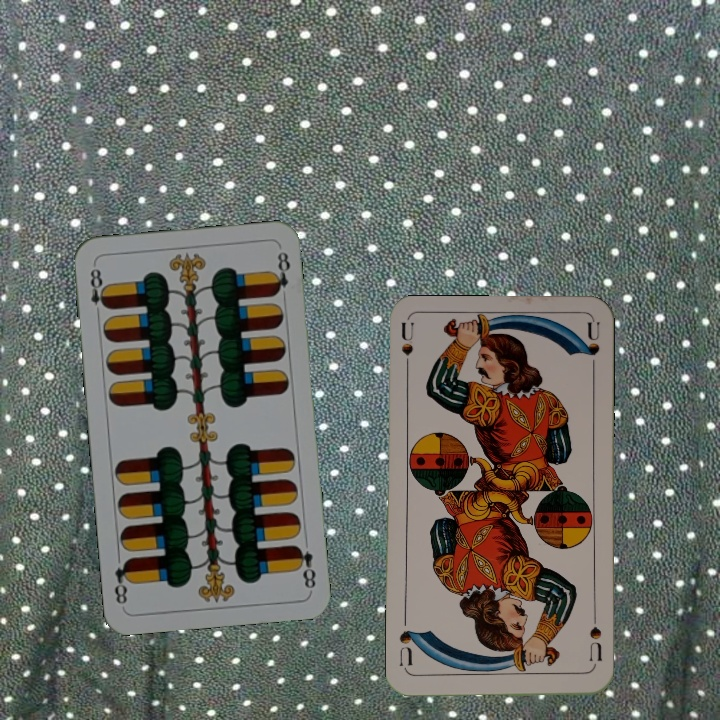E8: (86, 264, 111, 320), (291, 541, 319, 591)
SU: (585, 611, 604, 670), (398, 320, 417, 379)
